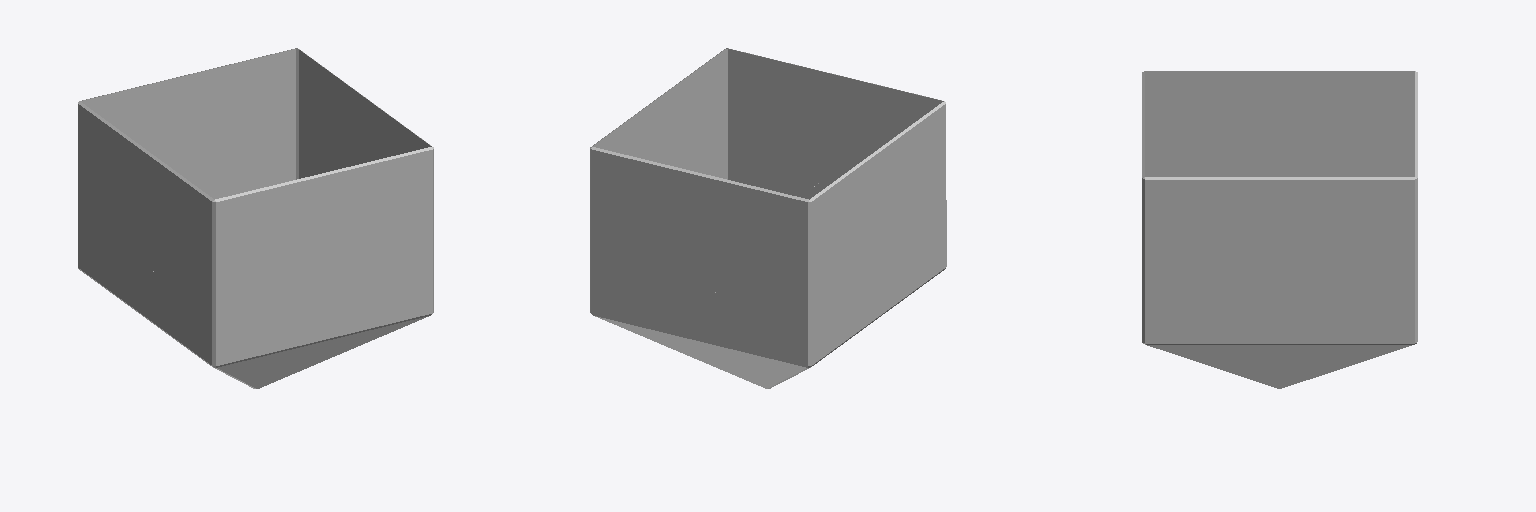
Rendered from girlshostel.obj.
The picture shows the model from 3 angles: view 1: azimuth 30°, elevation 25°; view 2: azimuth 150°, elevation 25°; view 3: azimuth 270°, elevation 25°; orthographic projection.
Size of the model in its own units: 2.24 by 2.54 by 2.4.